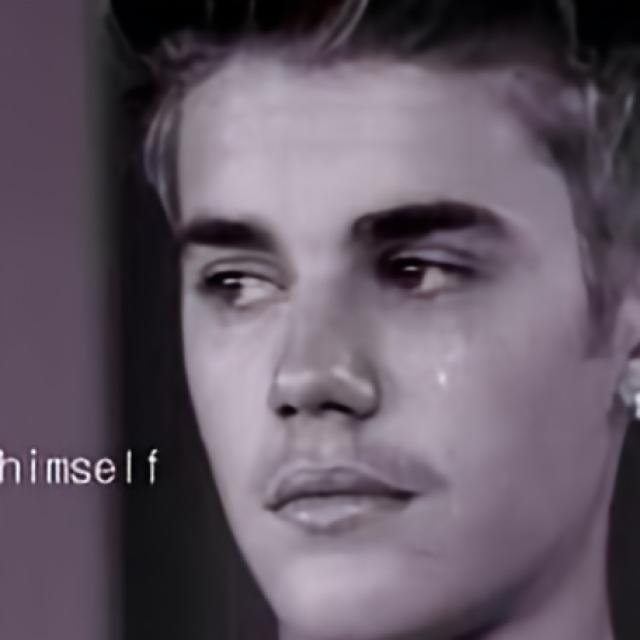sad: (176, 59, 605, 640)
